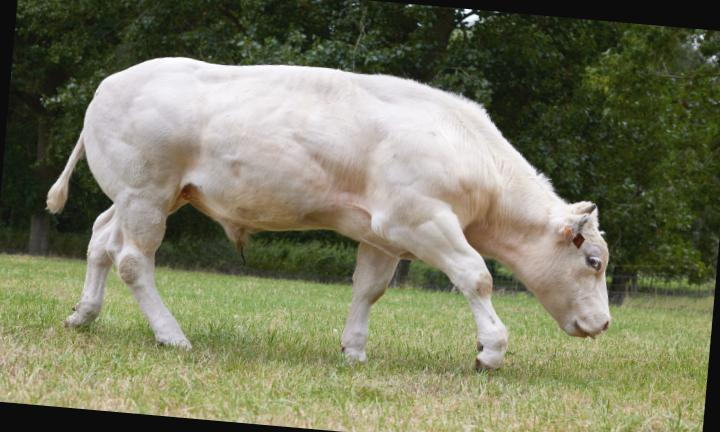Charolais: (47, 57, 610, 369)
